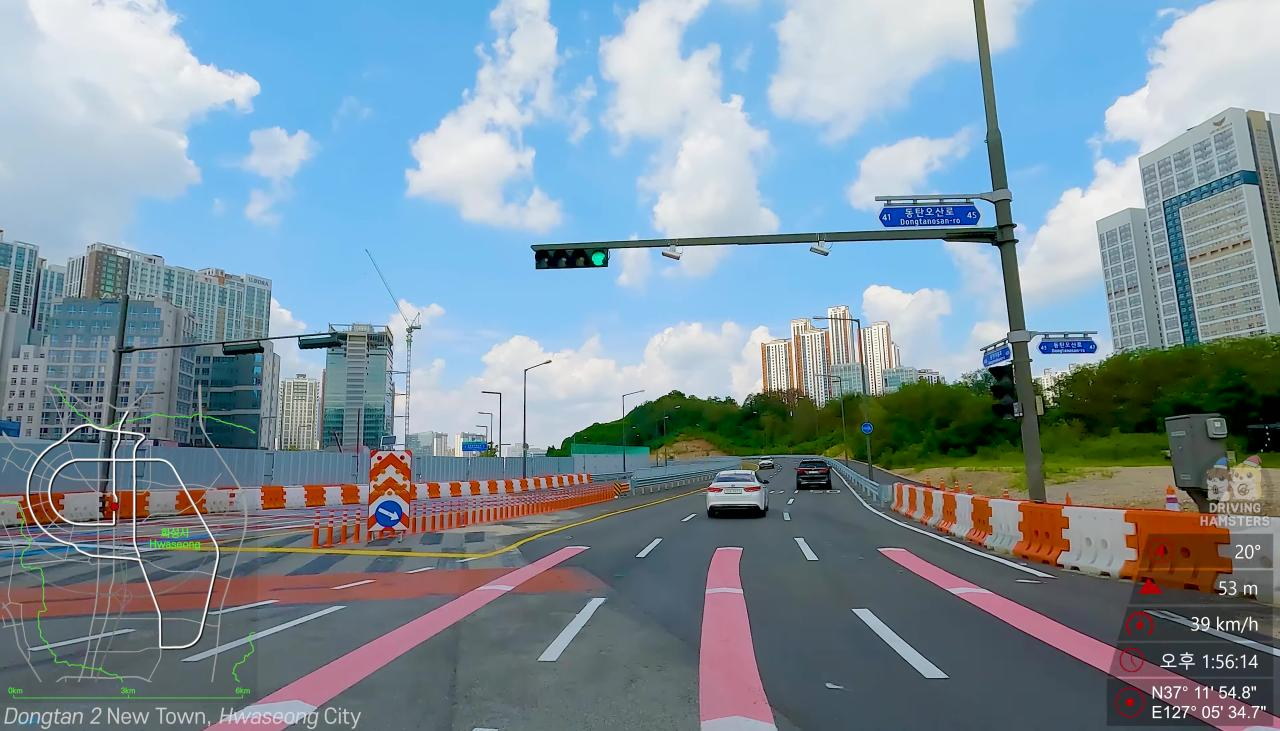Green Light: (589, 247, 607, 267)
